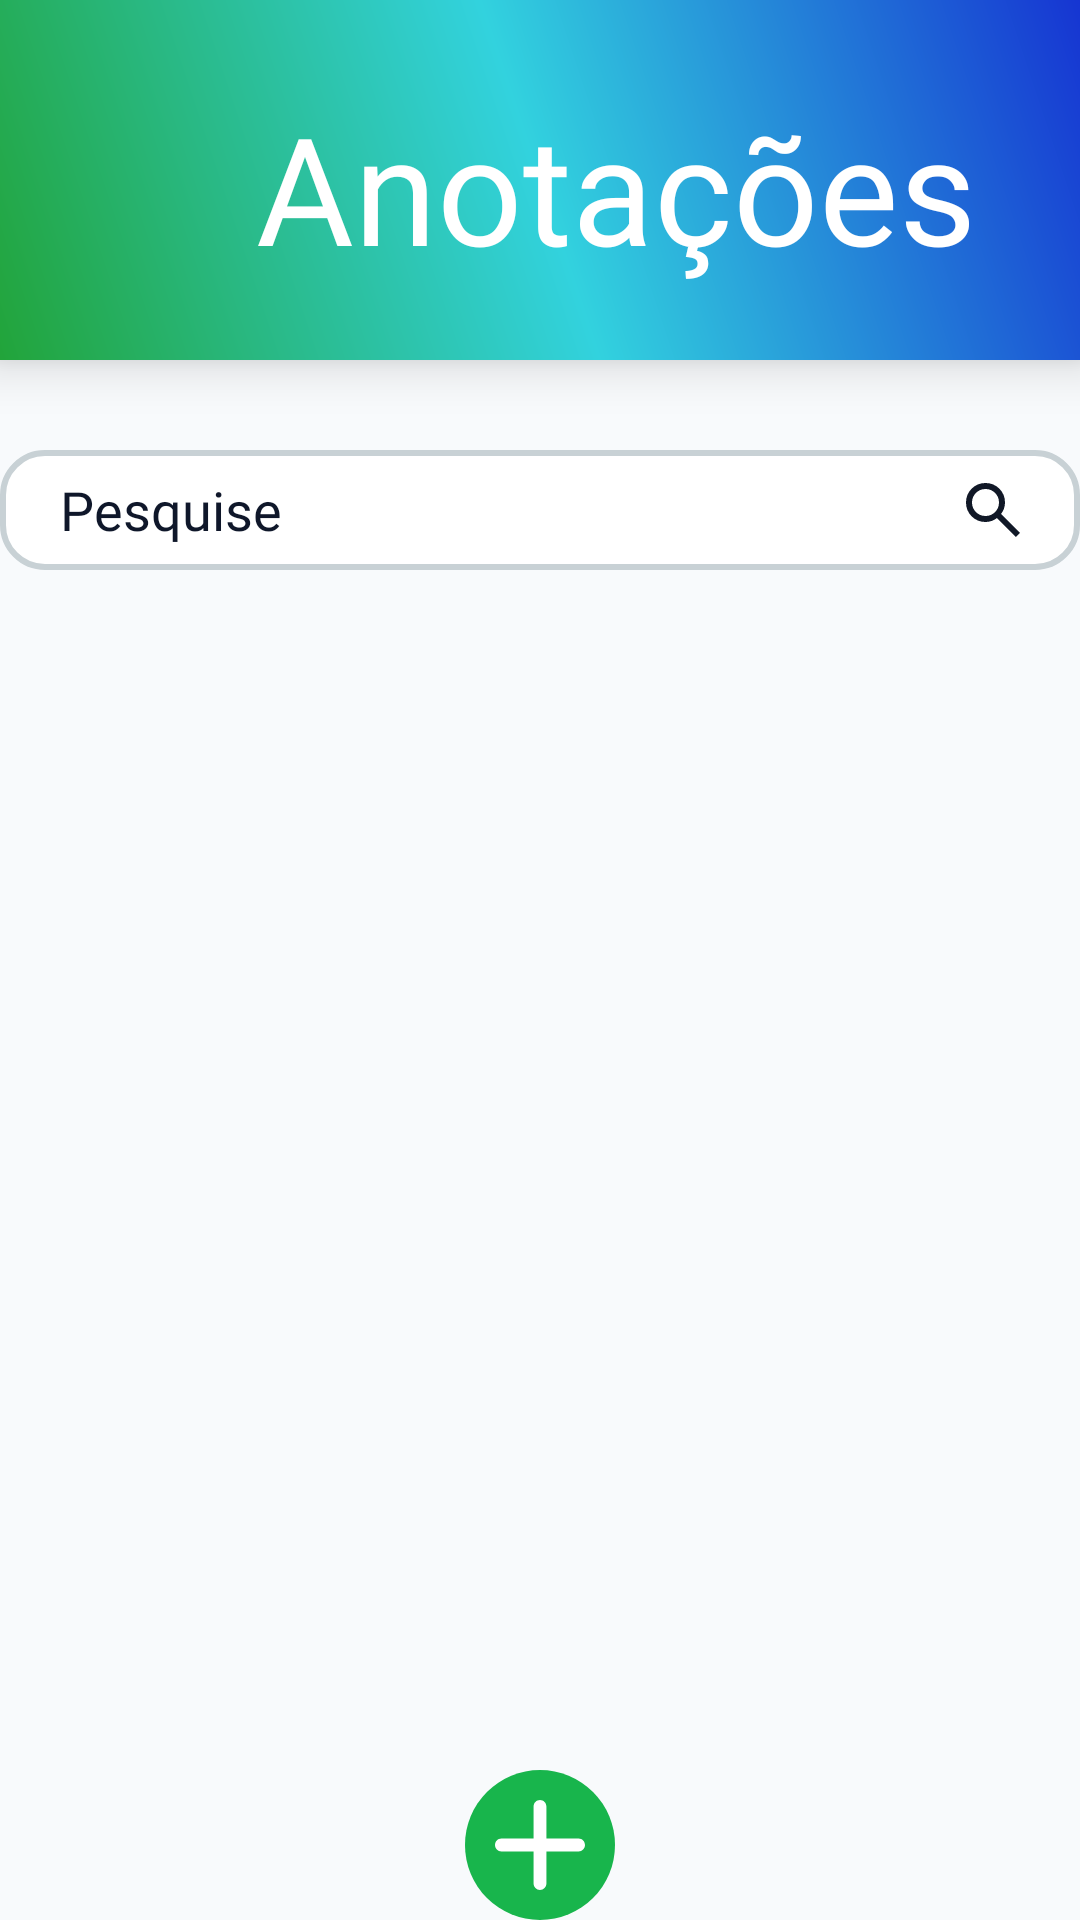

Point at icon controls on the screen. Image size 1080 × 1920, points as [x,y].
add: [540,1845]
